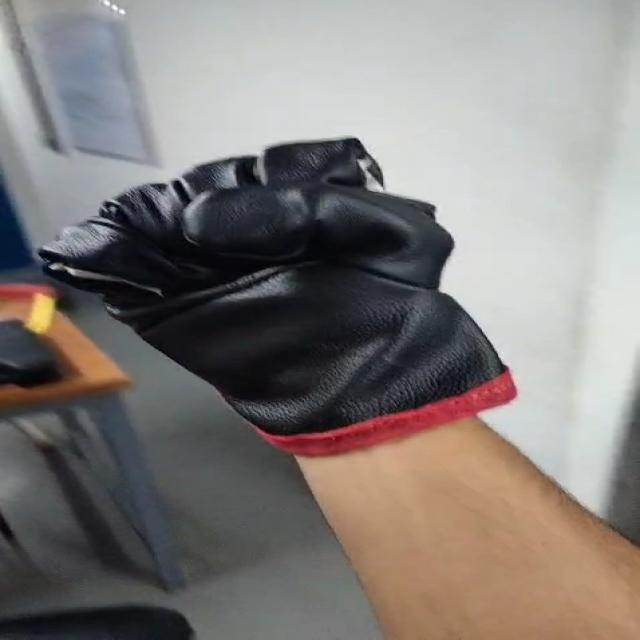Gloves: (37, 136, 520, 457)
